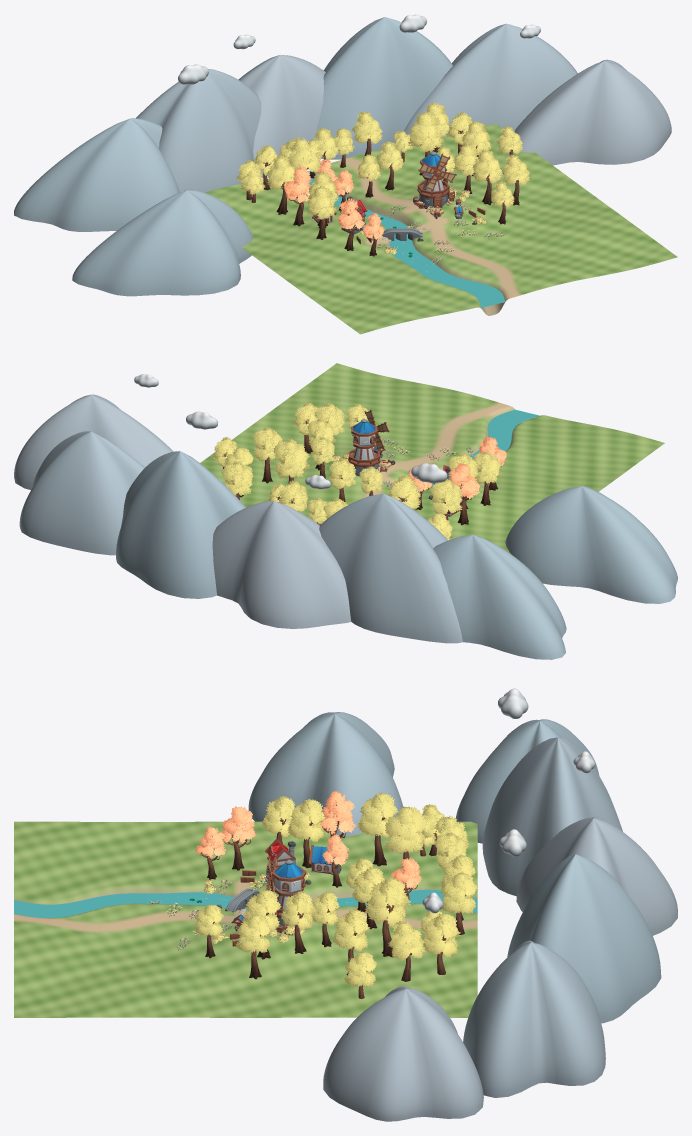
File: Millstream.glb
3 renders of one model, top to bottom at view 1: azimuth 30°, elevation 25°; view 2: azimuth 150°, elevation 25°; view 3: azimuth 270°, elevation 25°, orthographic. The views are drawn at different scales.
Parts seen in each view (by area): view 1: Meadow, Bluebell ridge 6, Bluebell ridge 0, Bluebell ridge 5, Bluebell ridge 3, Bluebell ridge 1, Bluebell ridge 4, Bluebell ridge 2, Millstream, oak.010, oak.004, rowan.002 (+22 smaller); view 2: Meadow, Bluebell ridge 1, Bluebell ridge 2, Bluebell ridge 6, Bluebell ridge 3, Bluebell ridge 0, Bluebell ridge 4, Bluebell ridge 5, oak.010, Millstream, oak.008, oak.011 (+14 smaller); view 3: Meadow, Bluebell ridge 4, Bluebell ridge 5, Bluebell ridge 3, Bluebell ridge 1, Bluebell ridge 6, Bluebell ridge 2, Bluebell ridge 0, Millstream, oak.010, oak.009, oak.008 (+21 smaller).
Part boxes in pixels (bbox=[...]): Meadow: bbox=[204, 124, 677, 334]; Bluebell ridge 6: bbox=[72, 189, 253, 296]; Bluebell ridge 0: bbox=[14, 118, 179, 231]; Bluebell ridge 5: bbox=[514, 59, 671, 165]; Bluebell ridge 3: bbox=[314, 17, 453, 159]; Bluebell ridge 1: bbox=[136, 69, 261, 192]; Bluebell ridge 4: bbox=[403, 23, 577, 137]; Bluebell ridge 2: bbox=[238, 55, 325, 177]; Millstream: bbox=[307, 171, 504, 307]; oak.010: bbox=[408, 112, 444, 175]; oak.004: bbox=[472, 149, 502, 205]; rowan.002: bbox=[284, 166, 311, 226]; Meadow: bbox=[200, 363, 664, 554]; Bluebell ridge 1: bbox=[319, 493, 462, 643]; Bluebell ridge 2: bbox=[212, 501, 351, 628]; Bluebell ridge 6: bbox=[505, 486, 677, 603]; Bluebell ridge 3: bbox=[116, 451, 245, 598]; Bluebell ridge 0: bbox=[433, 534, 566, 659]; Bluebell ridge 4: bbox=[19, 431, 144, 555]; Bluebell ridge 5: bbox=[14, 394, 173, 489]; oak.010: bbox=[273, 439, 309, 483]; Millstream: bbox=[405, 409, 539, 500]; oak.008: bbox=[430, 479, 462, 537]; oak.011: bbox=[252, 427, 282, 483]; Meadow: bbox=[14, 821, 477, 1017]; Bluebell ridge 4: bbox=[463, 940, 605, 1097]; Bluebell ridge 5: bbox=[323, 986, 483, 1121]; Bluebell ridge 3: bbox=[507, 854, 661, 1023]; Bluebell ridge 1: bbox=[482, 737, 622, 896]; Bluebell ridge 6: bbox=[248, 712, 403, 836]; Bluebell ridge 2: bbox=[516, 817, 677, 935]; Bluebell ridge 0: bbox=[455, 719, 599, 843]; Millstream: bbox=[14, 889, 477, 917]; oak.010: bbox=[365, 877, 410, 957]; oak.009: bbox=[385, 806, 427, 883]; oak.008: bbox=[357, 792, 398, 866].
Bounding box in the file's own units: 98.91 × 21.24 × 74.47.
19 materials, 7 textured.
